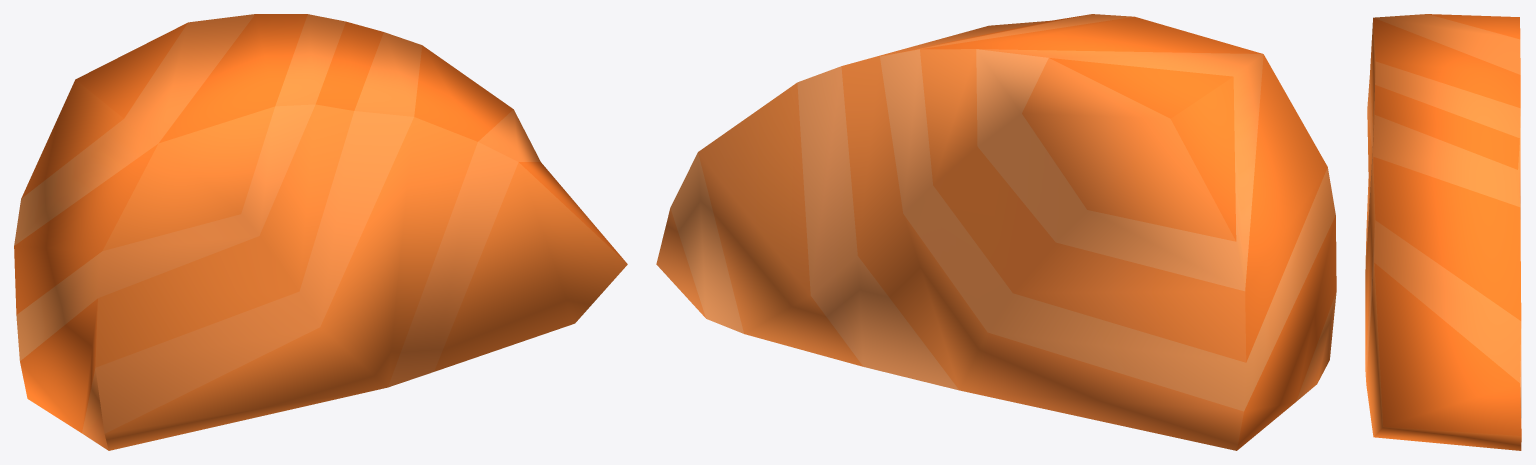
The model's file is Salmon_Cut_005.gltf.
3 views of the same model, side by side, from view 1: azimuth 30°, elevation 25°; view 2: azimuth 150°, elevation 25°; view 3: azimuth 270°, elevation 25° (orthographic). The views are drawn at different scales.
Visible parts, largest first — view 1: Salmon_Cut_005_x; view 2: Salmon_Cut_005_x; view 3: Salmon_Cut_005_x.
Boxes of the visible parts, x1,y1,x2,y2 form: Salmon_Cut_005_x: (14,14,627,450); Salmon_Cut_005_x: (656,14,1336,450); Salmon_Cut_005_x: (1365,14,1521,450).
Size of the model in its own units: 0.5283 by 0.3094 by 0.1519.
Materials: 1 (1 with a texture image).
